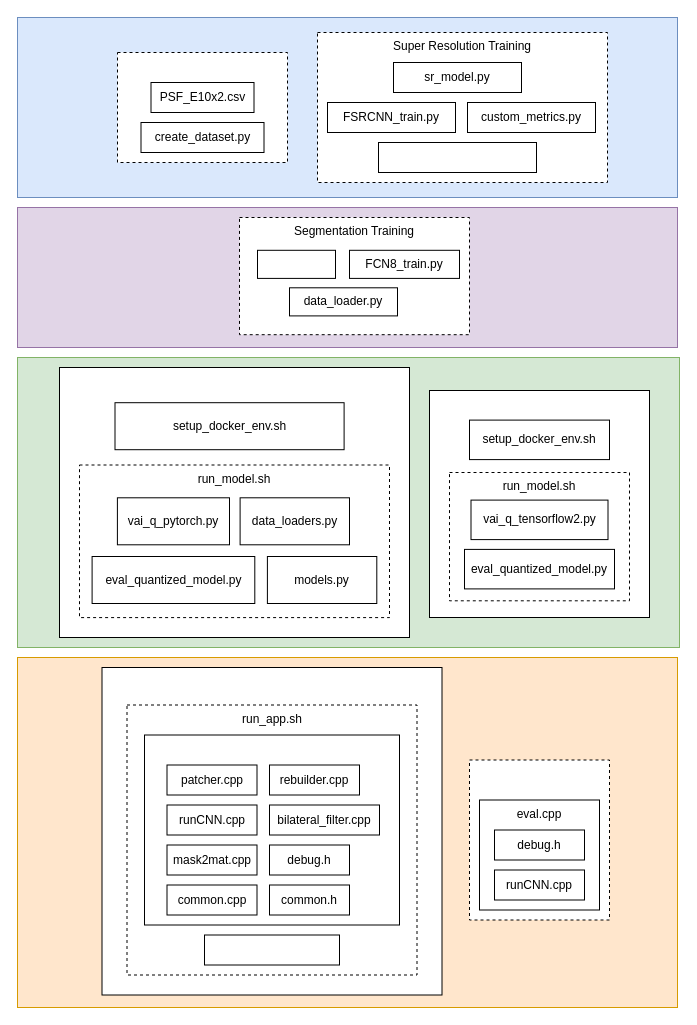
The diagram is 697 pixels wide and 1025 high, and some of its shapes have lost their labels. Each missing label, with the box of its shape:
memory_footprint.sh: (204, 934, 340, 965)
model.py: (256, 249, 336, 278)
run_eval.sh: (468, 759, 610, 920)
Super Resolution Dataset: (116, 52, 288, 162)
SuperRes7.cpp: (144, 734, 400, 925)
Target ZCU-102: (101, 666, 442, 995)
training_parameters.json: (378, 142, 536, 172)
Vitis AI PyTorch: (58, 366, 410, 638)
Vitis AI TensorFlow: (428, 390, 650, 618)
